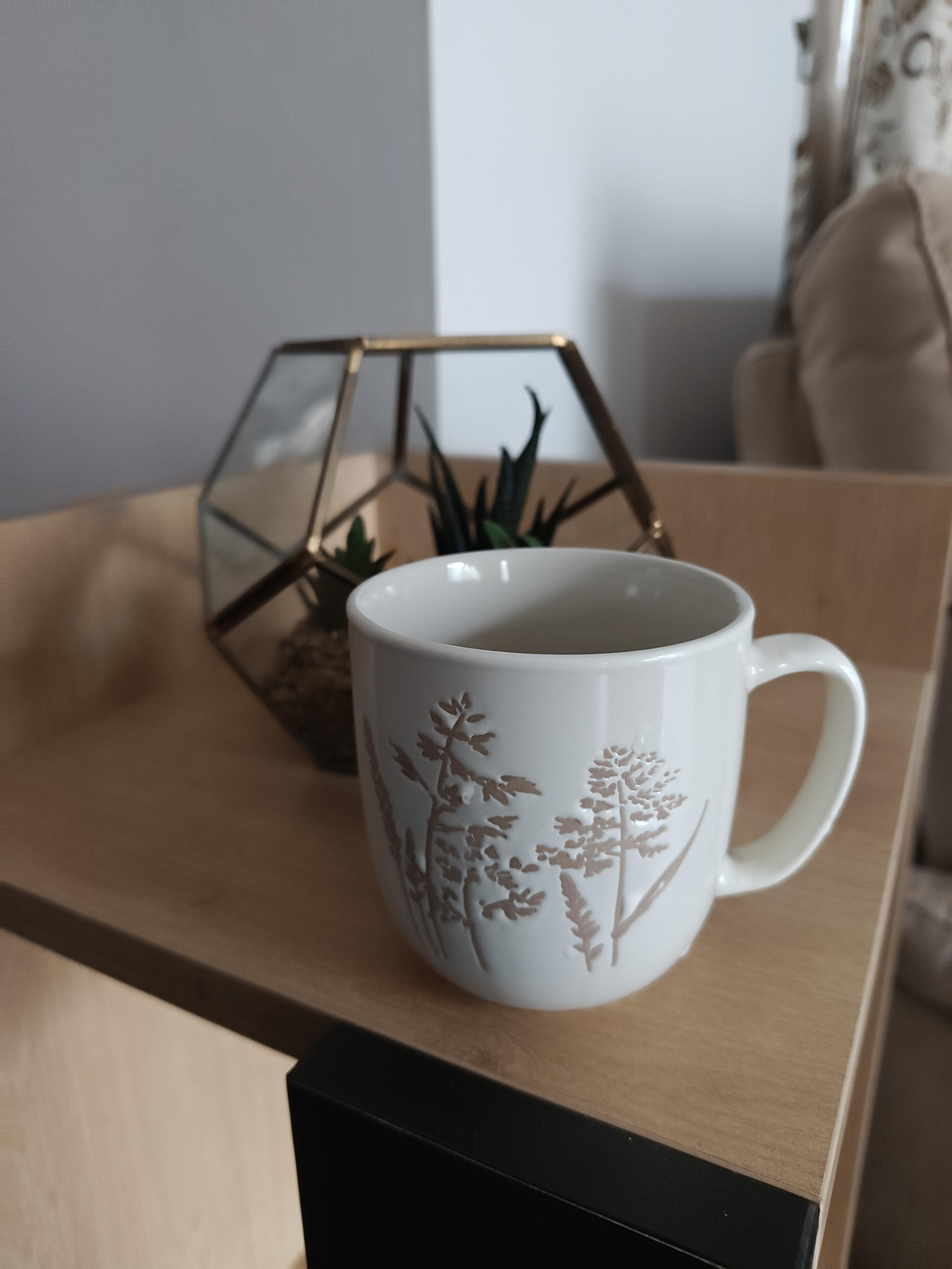mug: (345, 547, 870, 1010)
